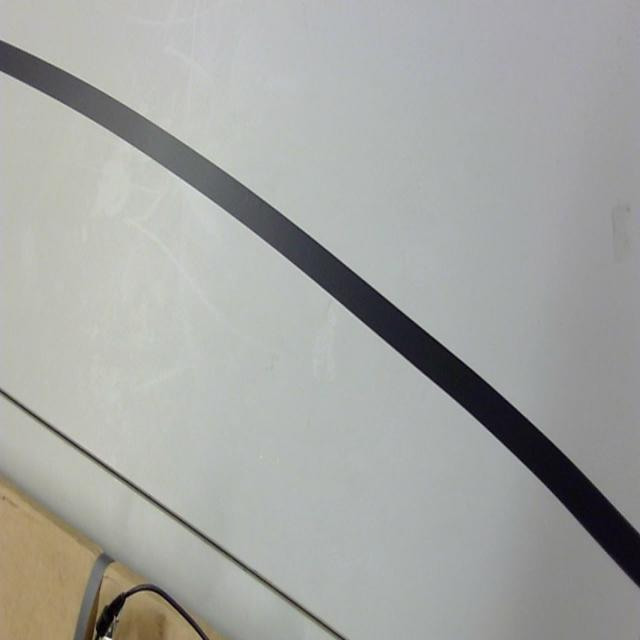tape: (0, 12, 640, 616)
